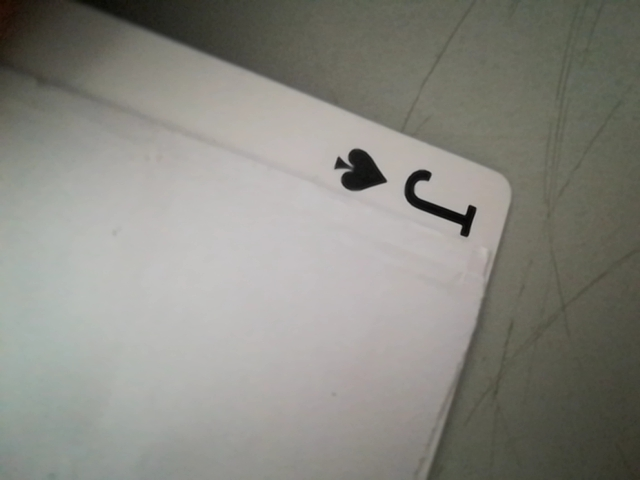ht j: (321, 142, 492, 231)
